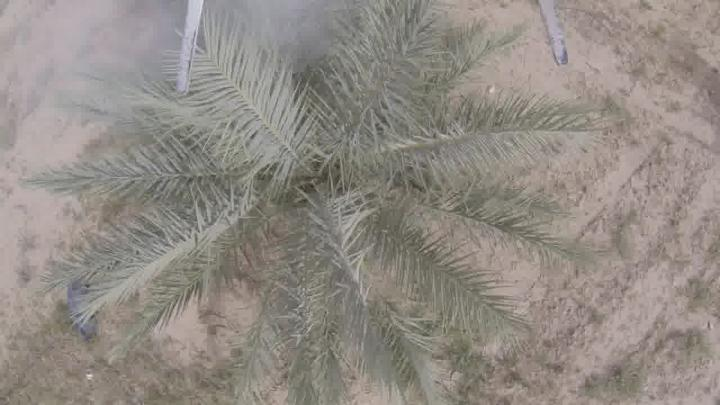Date-Palm-Crown: (174, 55, 468, 298)
